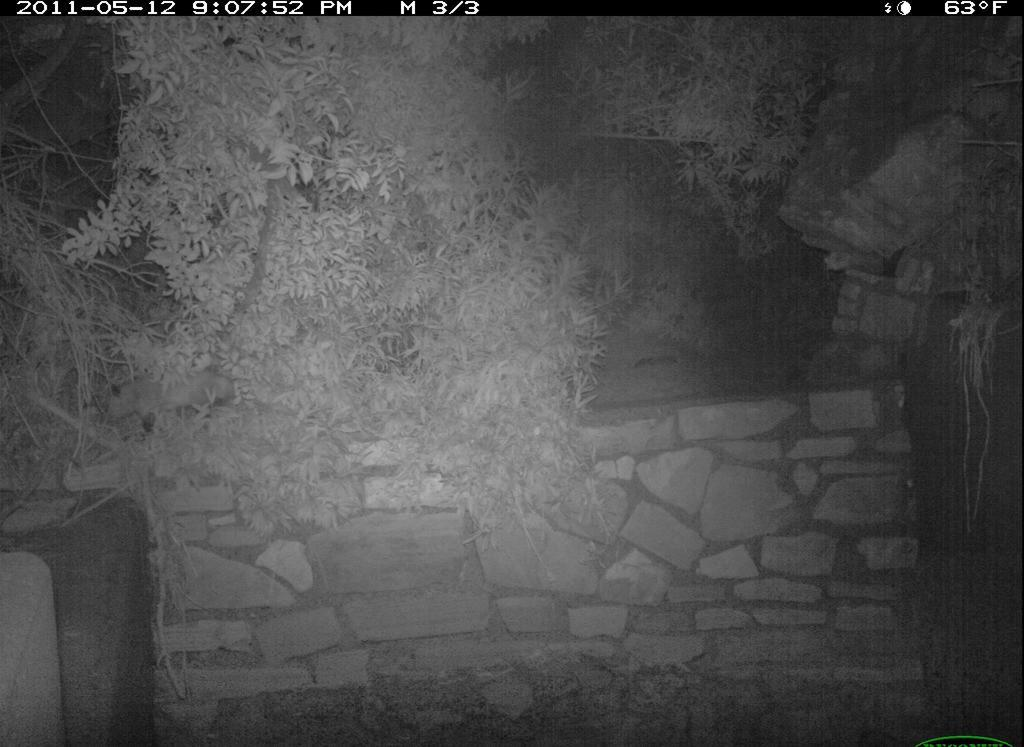opossum: (102, 363, 239, 440)
